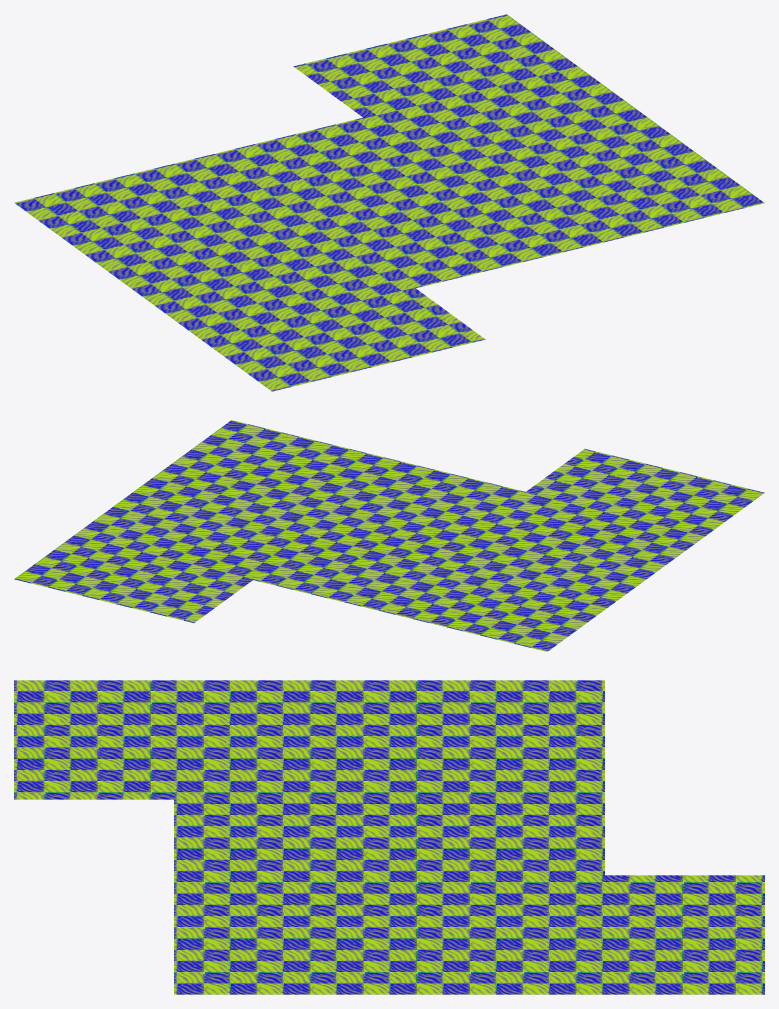
The model's file is arena_ground.fbx.
3 views of the same model, one above another, from view 1: azimuth 30°, elevation 25°; view 2: azimuth 150°, elevation 25°; view 3: azimuth 270°, elevation 25° (orthographic). The views are drawn at different scales.
Parts seen in each view (by area): view 1: Object052; view 2: Object052; view 3: Object052.
Part boxes in pixels (<box>): Object052: <box>14,14,764,391</box>; Object052: <box>14,420,764,651</box>; Object052: <box>14,680,764,994</box>.
Size of the model in its own units: 6925 by 0.2382 by 6990.
